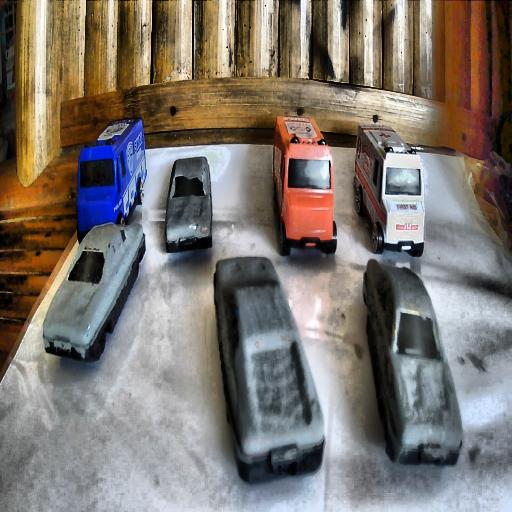ambulance: (353, 122, 424, 258)
fire_truck: (272, 114, 338, 256)
normal_car: (213, 256, 321, 482), (362, 259, 462, 467), (42, 222, 146, 364), (164, 155, 213, 255)
police car: (76, 116, 146, 243)
